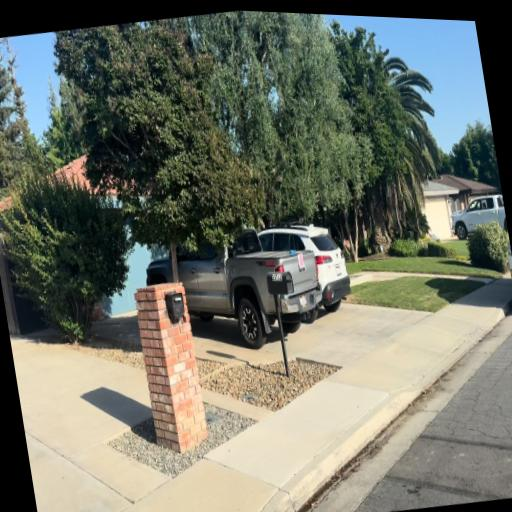bullseye: (297, 253, 304, 269)
